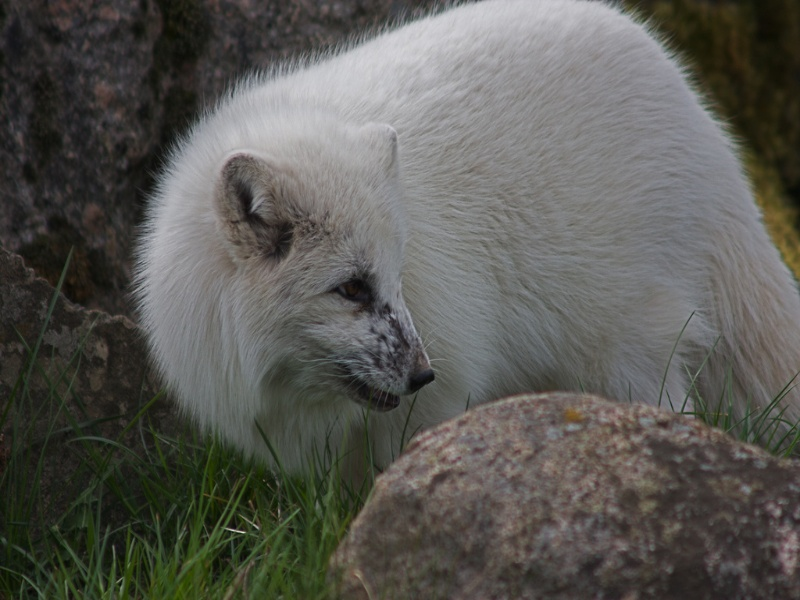fox: (149, 27, 732, 481)
